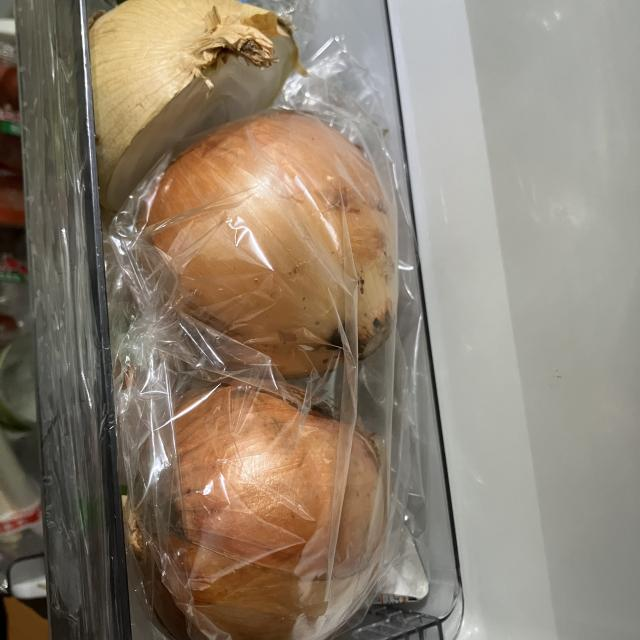onion: (131, 110, 401, 388), (125, 382, 388, 640), (87, 1, 303, 212)
